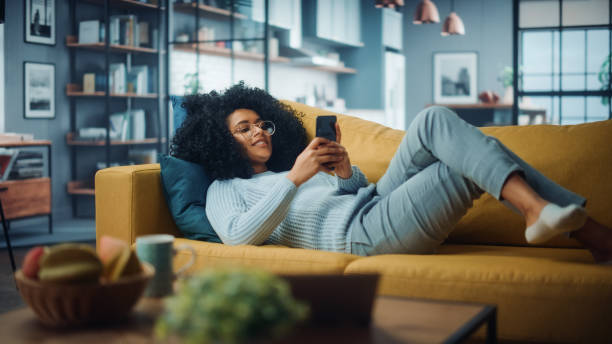without mask: (217, 91, 289, 172)
